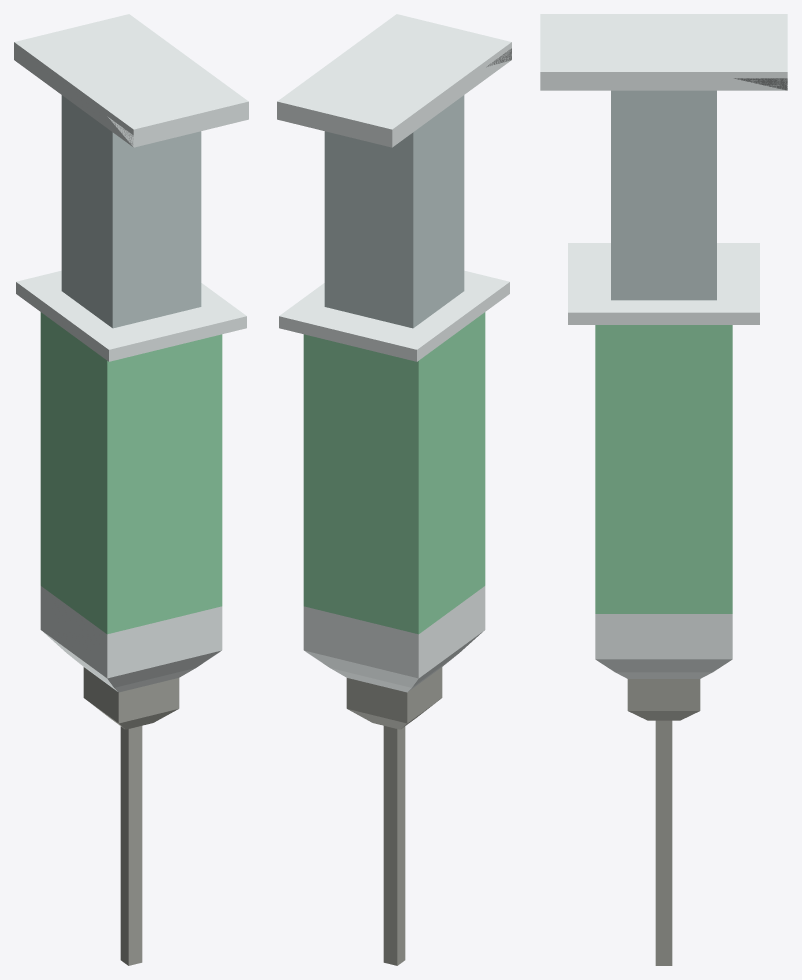
File: Syringe.fbx
The picture shows the model from 3 angles, left to right: view 1: azimuth 30°, elevation 25°; view 2: azimuth 150°, elevation 25°; view 3: azimuth 270°, elevation 25°; orthographic projection. The views are drawn at different scales.
Parts seen in each view (by area): view 1: Syringe; view 2: Syringe; view 3: Syringe.
Part boxes in pixels (x1,y1,x2,y2): Syringe: (14, 14, 248, 965); Syringe: (277, 14, 511, 965); Syringe: (540, 14, 787, 965).
Bounding box in the file's own units: 24 × 148 × 36.
